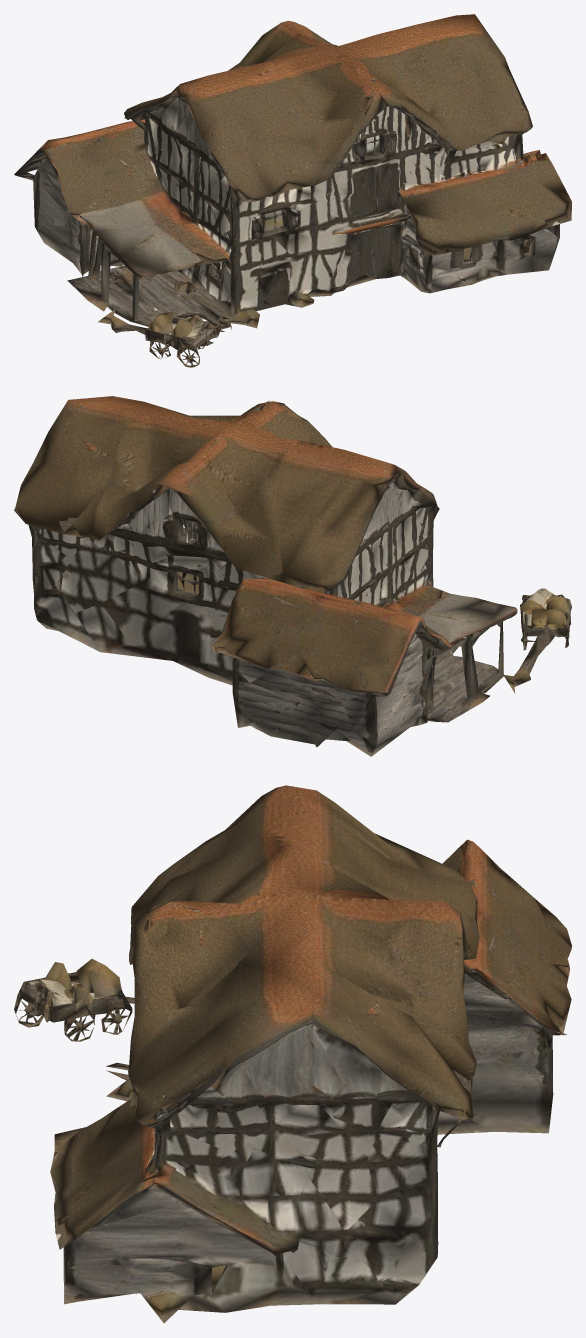
File: getreidefarm.glb
3 renders of one model, top to bottom at view 1: azimuth 30°, elevation 25°; view 2: azimuth 150°, elevation 25°; view 3: azimuth 270°, elevation 25°, orthographic. The views are drawn at different scales.
Size of the model in its own units: 1.9 by 0.8648 by 1.41.
Materials: 1 (1 with a texture image).
